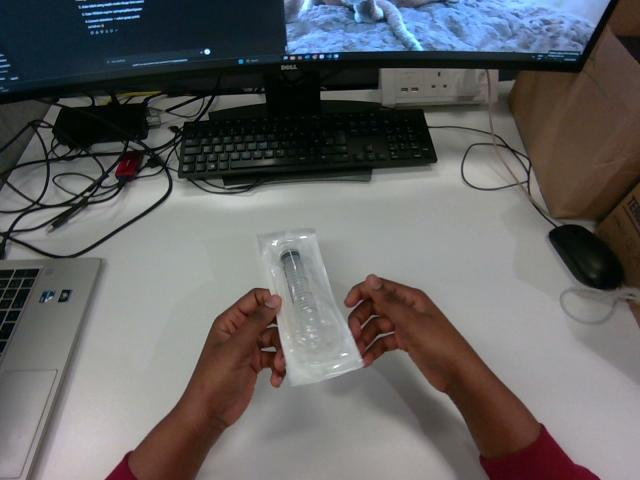syringe: (258, 229, 362, 384)
